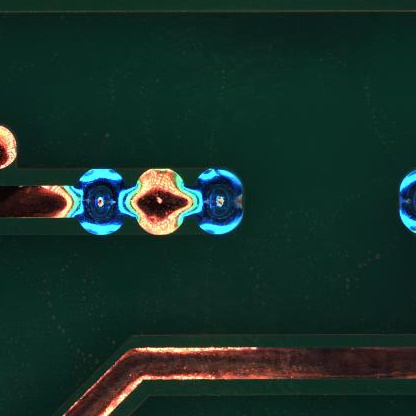spot: (76, 168, 126, 236), (195, 168, 243, 235)
